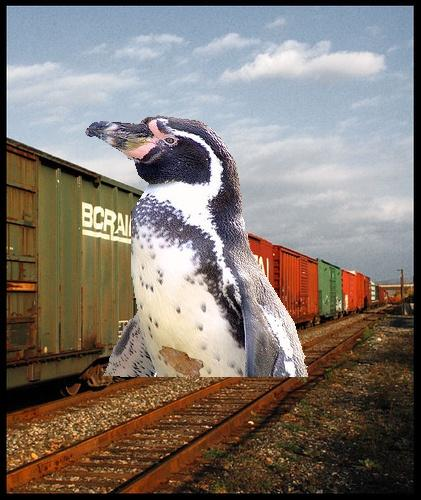tampered: (86, 116, 308, 377)
